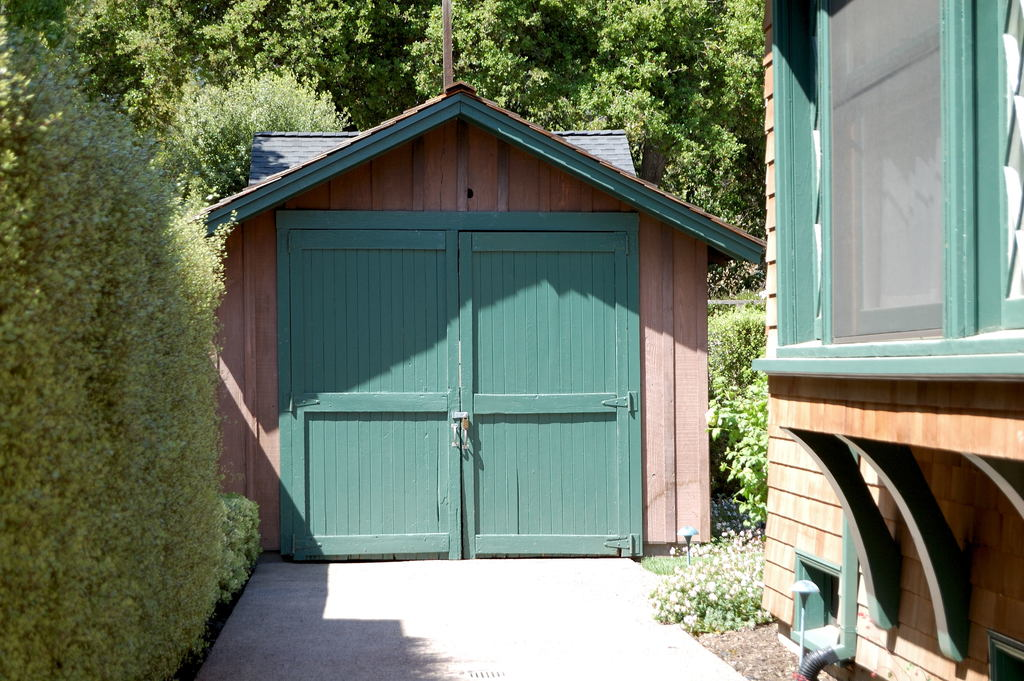Door: (253, 170, 652, 564)
